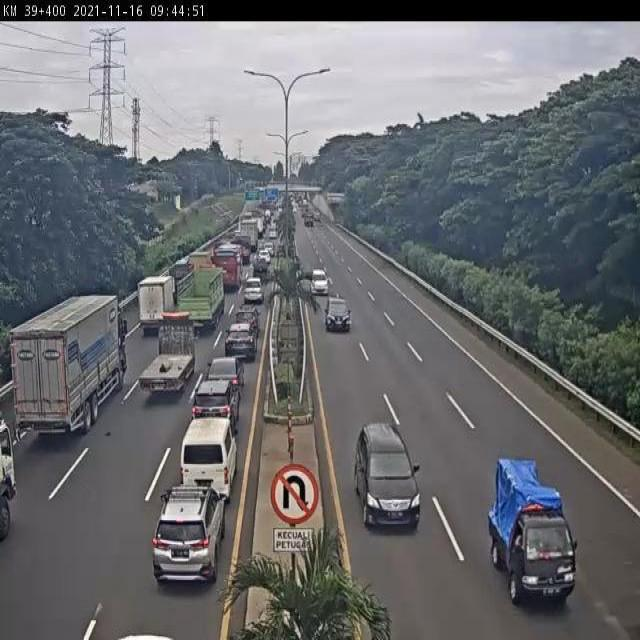car: (486, 455, 578, 604), (356, 423, 422, 533), (150, 490, 222, 586), (188, 383, 236, 447), (205, 355, 246, 396), (223, 327, 255, 365), (324, 295, 354, 335), (236, 303, 263, 335), (241, 276, 266, 304)
truck: (7, 291, 129, 441), (183, 419, 238, 500), (136, 320, 194, 395), (171, 265, 226, 339), (139, 276, 178, 339), (207, 247, 244, 296), (182, 253, 211, 296)
